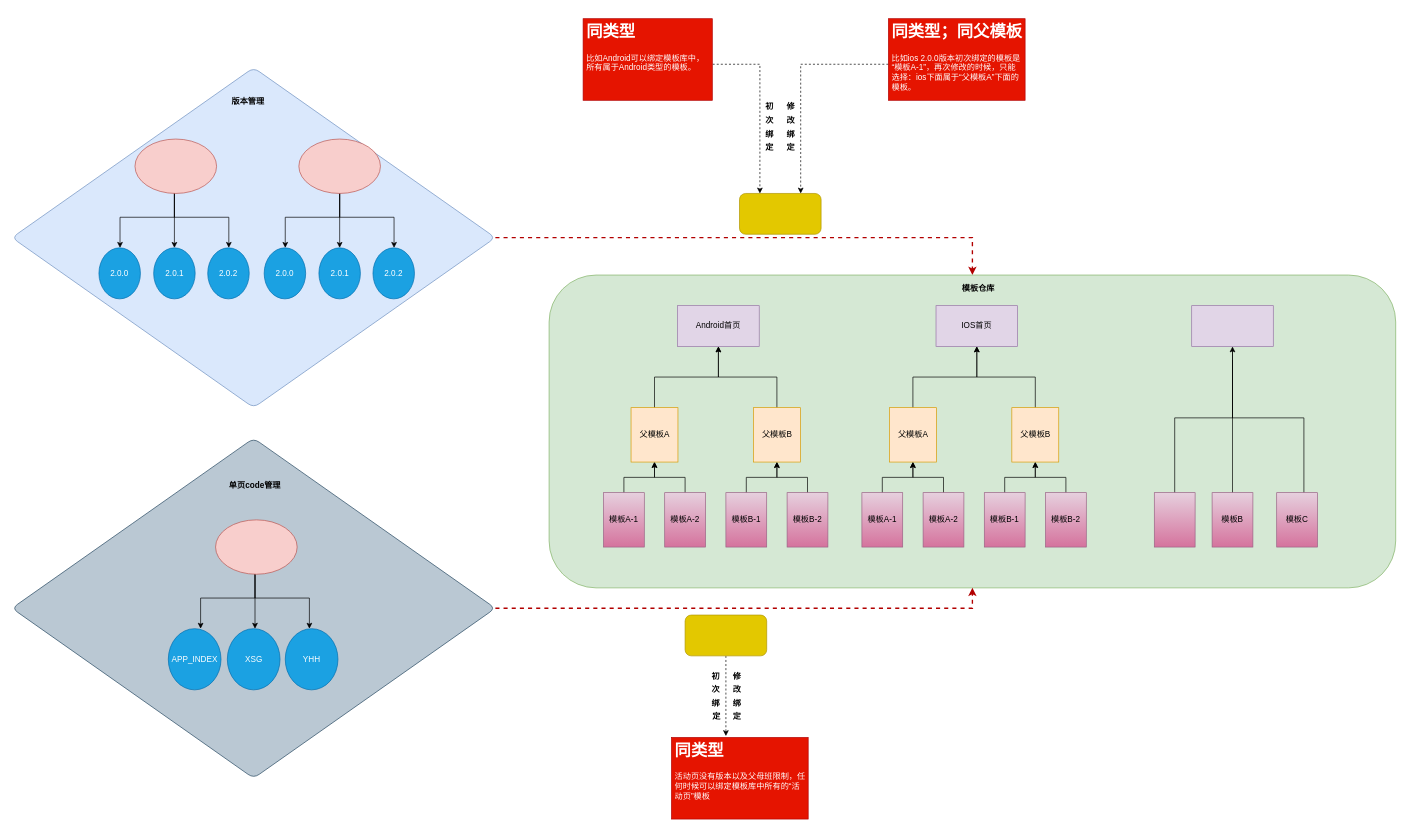
This 1408x831 diagram has some shape labels left out. The centre of each missing label's shape, as x and y in pixels:
"Android版本" belongs at pixel 175 165.
"code绑定模板" belongs at pixel 725 635.
"H5 - code" belongs at pixel 256 546.
"IOS版本" belongs at pixel 339 165.
"模板A" belongs at pixel 1174 519.
"活动页" belongs at pixel 1232 325.
"版本绑定模板" belongs at pixel 780 213.
